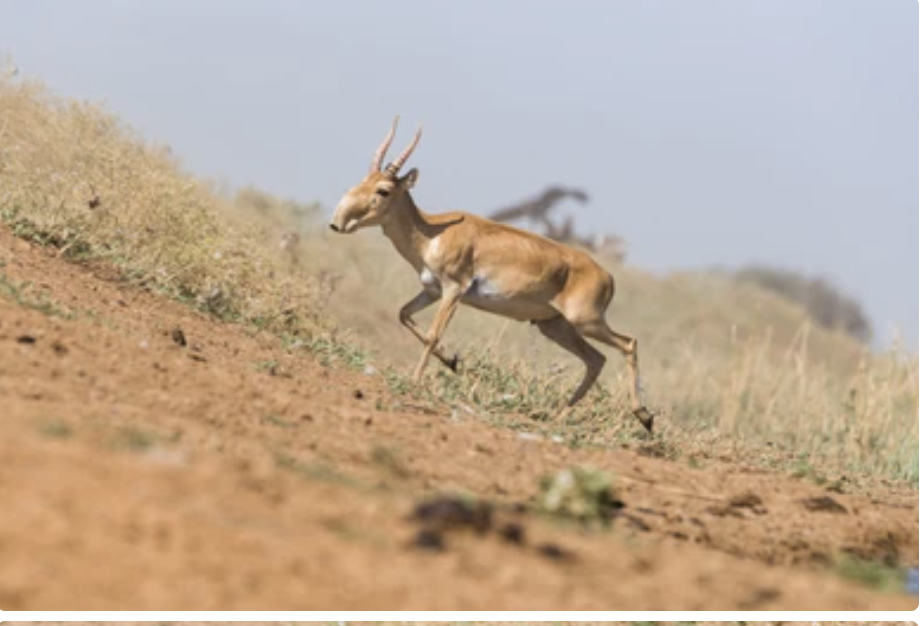saiga: (306, 100, 658, 437)
